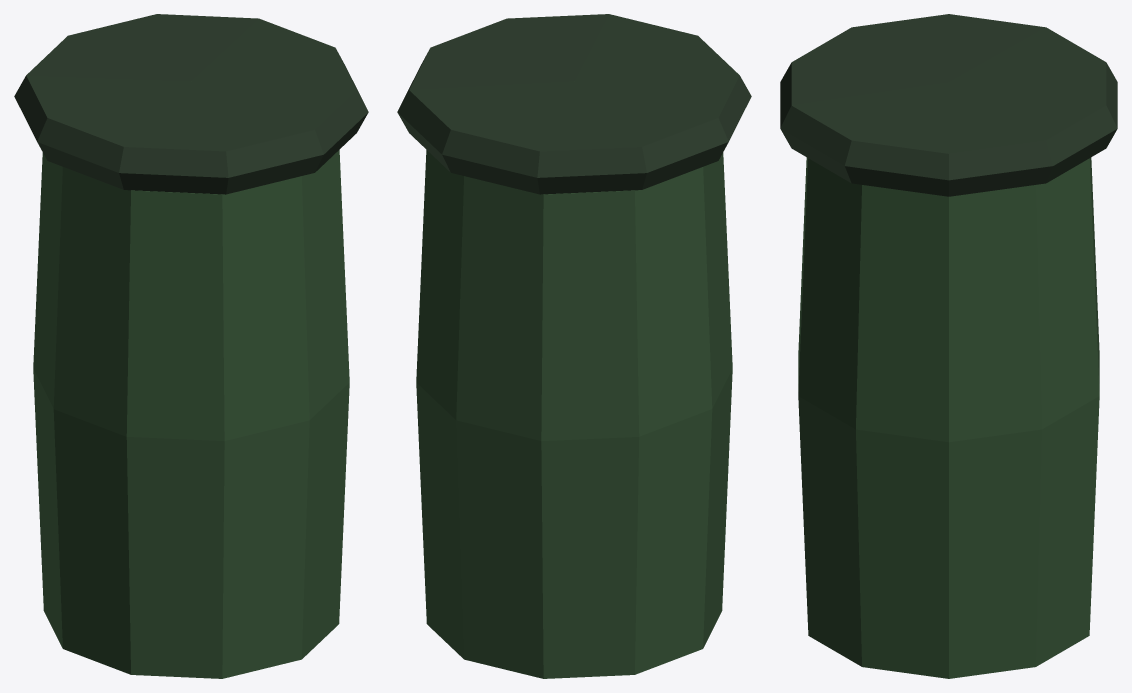
The model's file is s-bin.glb.
3 views of the same model, side by side, from view 1: azimuth 30°, elevation 25°; view 2: azimuth 150°, elevation 25°; view 3: azimuth 270°, elevation 25° (orthographic).
Parts seen in each view (by area): view 1: p; view 2: p; view 3: p.
Part boxes in pixels (x1=…): p: x1=14, y1=14, x2=368, y2=678; p: x1=397, y1=14, x2=751, y2=678; p: x1=780, y1=14, x2=1117, y2=678.
Size of the model in its own units: 0.56 by 0.96 by 0.5326.
